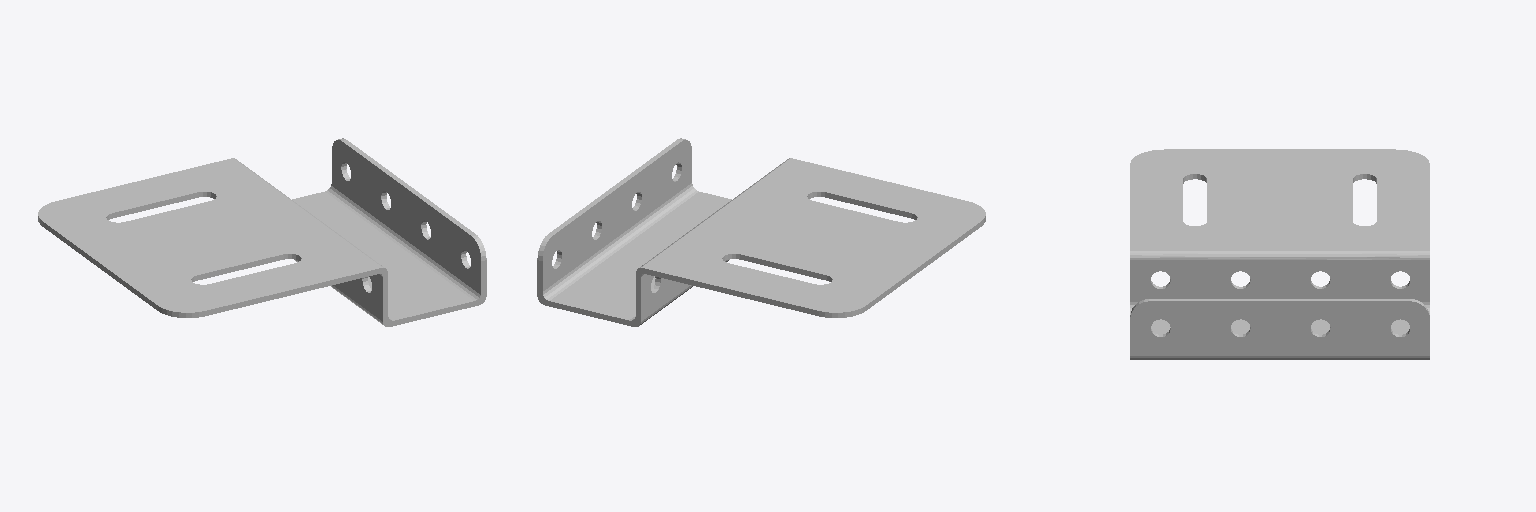
File: bryla400.obj
3 renders of one model, left to right at view 1: azimuth 30°, elevation 25°; view 2: azimuth 150°, elevation 25°; view 3: azimuth 270°, elevation 25°, orthographic.
Visible parts, largest first — view 1: Bryła400; view 2: Bryła400; view 3: Bryła400.
Part boxes in pixels (x1,y1,x2,y2): Bryła400: (38, 138, 486, 326); Bryła400: (537, 138, 985, 326); Bryła400: (1130, 149, 1429, 359).
Size of the model in its own units: 180 by 34 by 150.